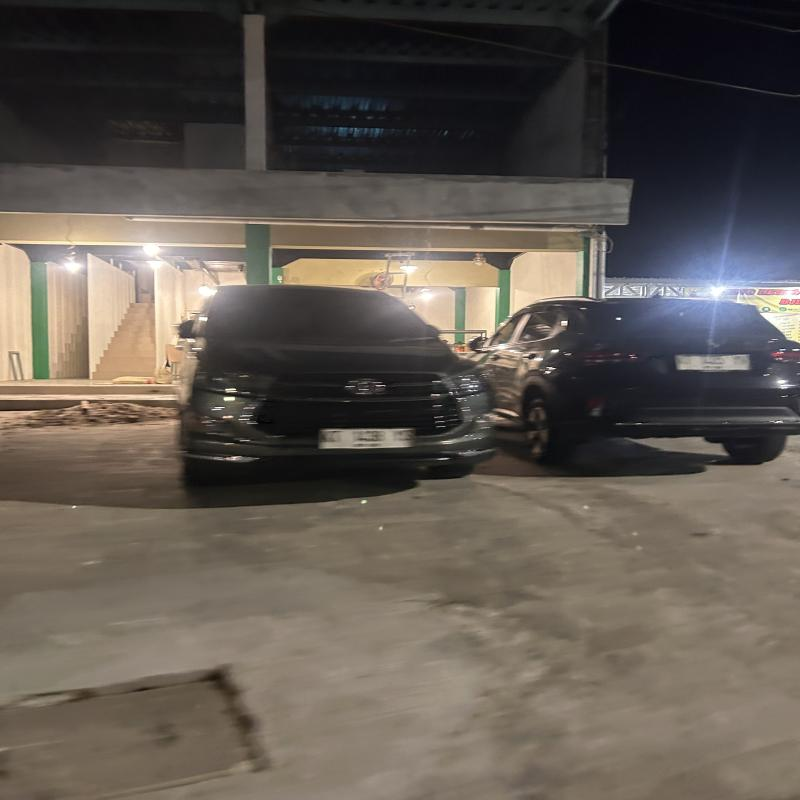license plate on a car: (315, 419, 442, 465), (669, 344, 778, 382)
